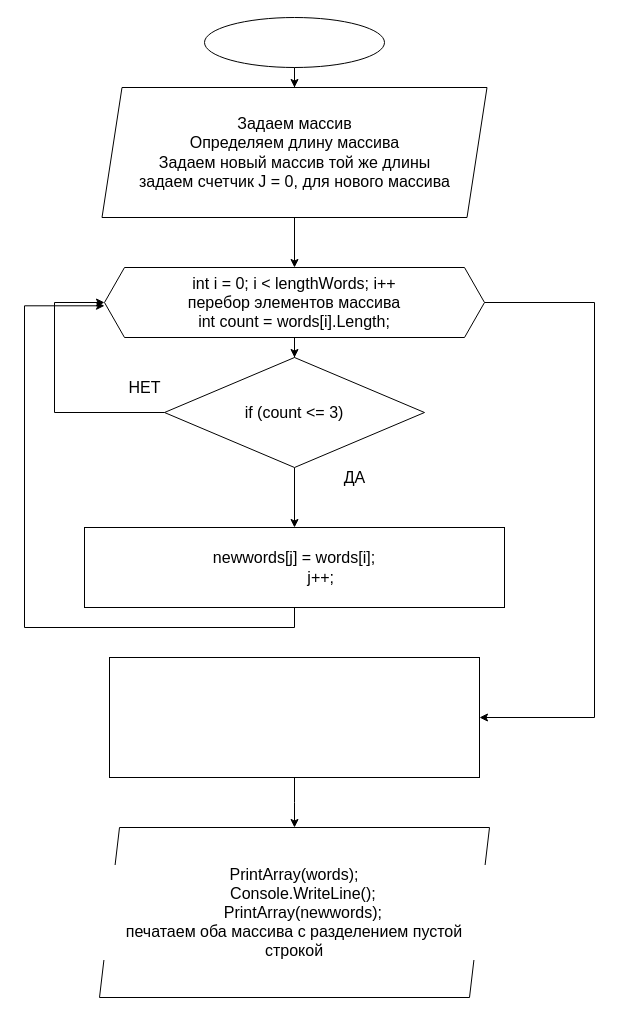
Some shapes in this 620 by 1015 pixel diagram are drawn without their labels. Each missing label, with the centre of its shape:
lengthWords = j; актуализируем длину нового массива: pixel 294 717
Старт: pixel 294 42
